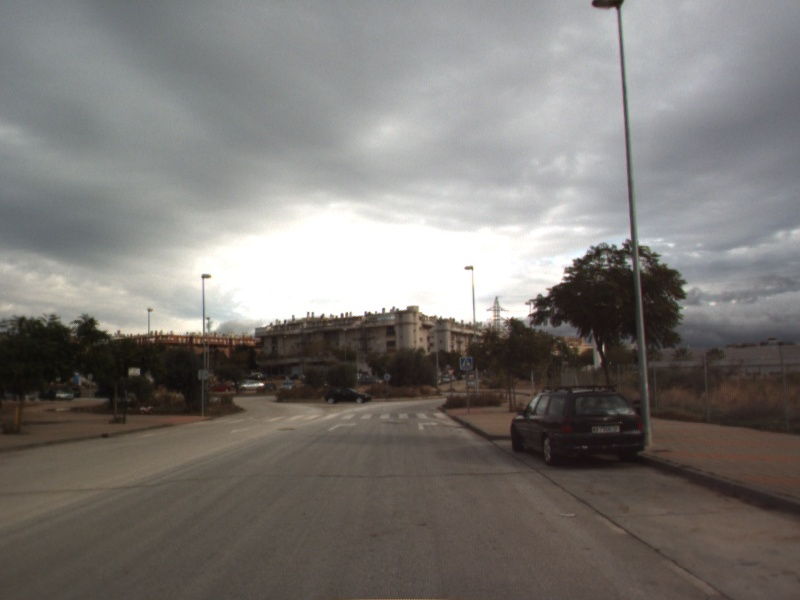RIGHT: (326, 420, 359, 433), (416, 419, 441, 432)
